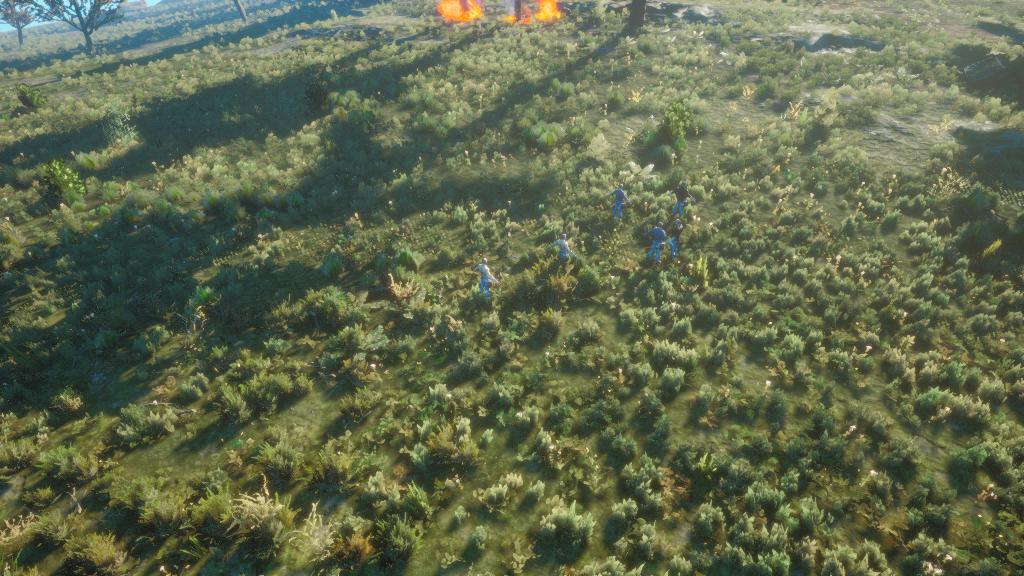Fire: (502, 0, 563, 24), (430, 0, 484, 25)
human: (638, 169, 701, 268), (468, 242, 510, 310), (543, 227, 590, 287), (599, 175, 635, 230)
